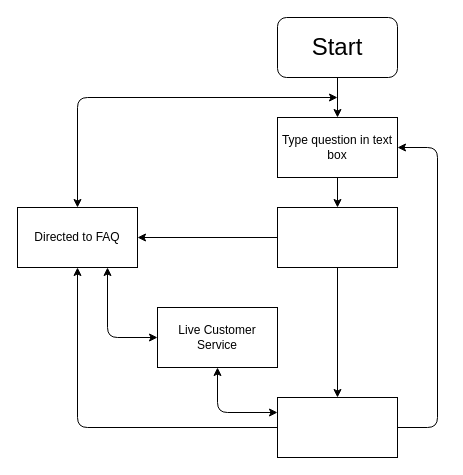
Image size: 463x475. Some labels were removed from this diagram. Here are the shapes that lost their labels. From the top down, the centre of each, then its label:
At [337,237]: "Submit Question".
At [337,427]: "Chatbot responds".
